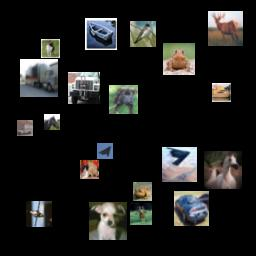airplane: (162, 147, 197, 182), (97, 143, 113, 159)
automobile: (174, 191, 209, 226)
bird: (26, 201, 52, 227), (130, 21, 156, 47)
cat: (80, 160, 99, 179)
deer: (208, 11, 243, 46), (130, 203, 152, 225)
dog: (89, 202, 127, 240), (109, 85, 138, 114), (41, 39, 60, 58)
frog: (163, 43, 195, 75), (133, 182, 152, 201)
ship: (85, 18, 117, 50), (212, 83, 231, 102)
truck: (20, 59, 58, 97), (68, 72, 100, 104), (17, 120, 33, 136)
